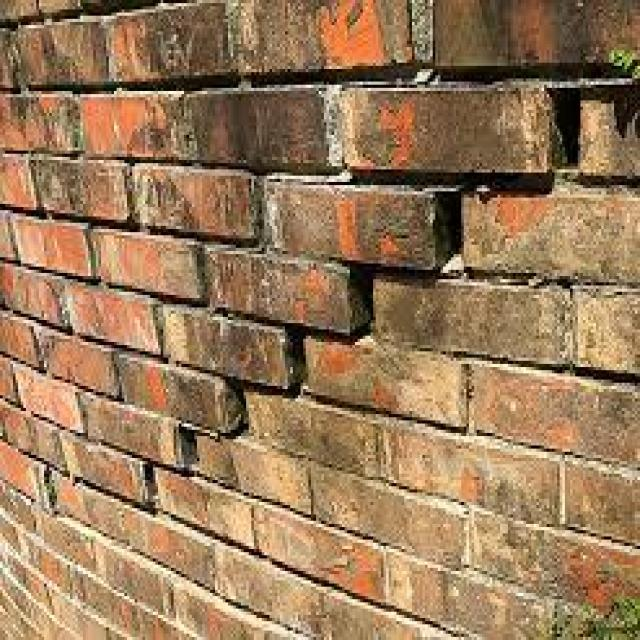Crack: (138, 59, 638, 512)
